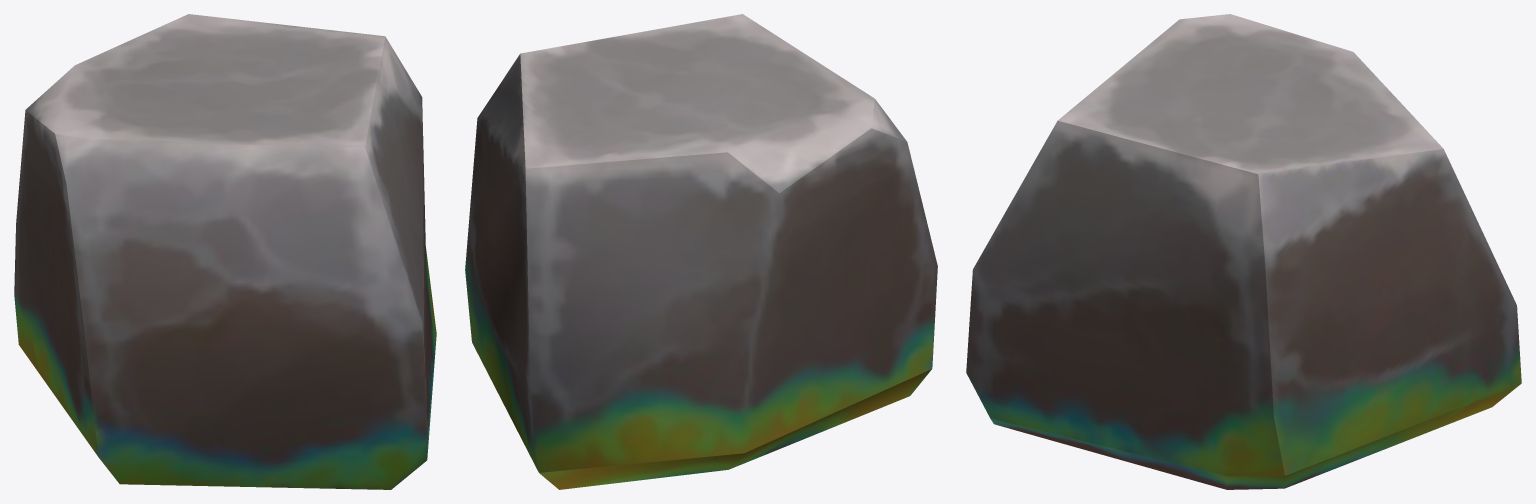
Rendered from ROK0110046.fbx.
3 views of the same model, side by side, from view 1: azimuth 30°, elevation 25°; view 2: azimuth 150°, elevation 25°; view 3: azimuth 270°, elevation 25° (orthographic). The views are drawn at different scales.
Parts seen in each view (by area): view 1: smROK0110046; view 2: smROK0110046; view 3: smROK0110046.
Boxes of the visible parts, bbox=[...] form: smROK0110046: bbox=[14, 14, 436, 489]; smROK0110046: bbox=[465, 14, 937, 489]; smROK0110046: bbox=[966, 14, 1521, 489].
Size of the model in its own units: 75.42 by 57.06 by 91.01.
Materials: 1 (1 with a texture image).
